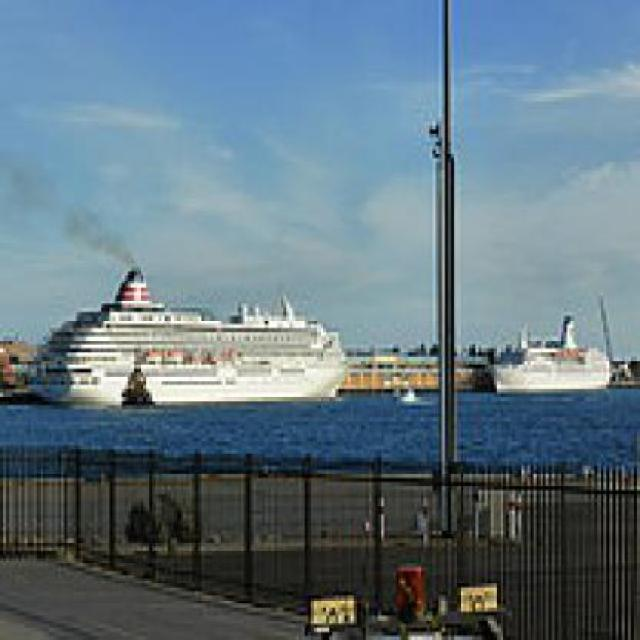cruise: (10, 257, 361, 423), (473, 317, 629, 403)
